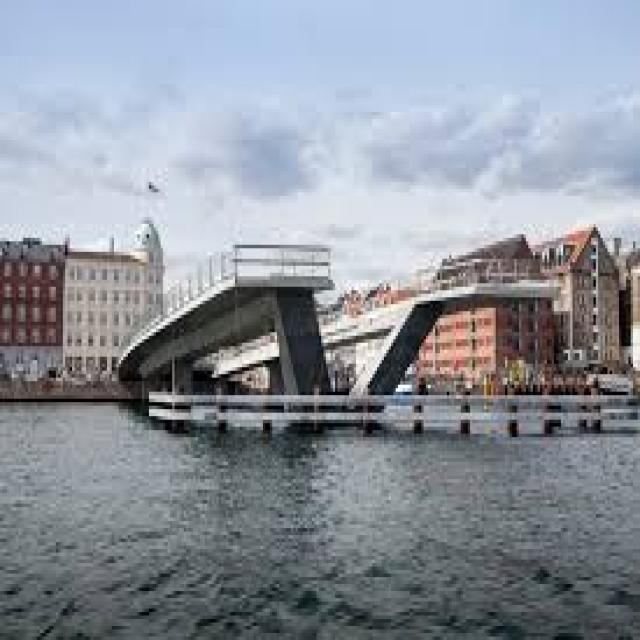Bridges: (7, 185, 640, 462)
